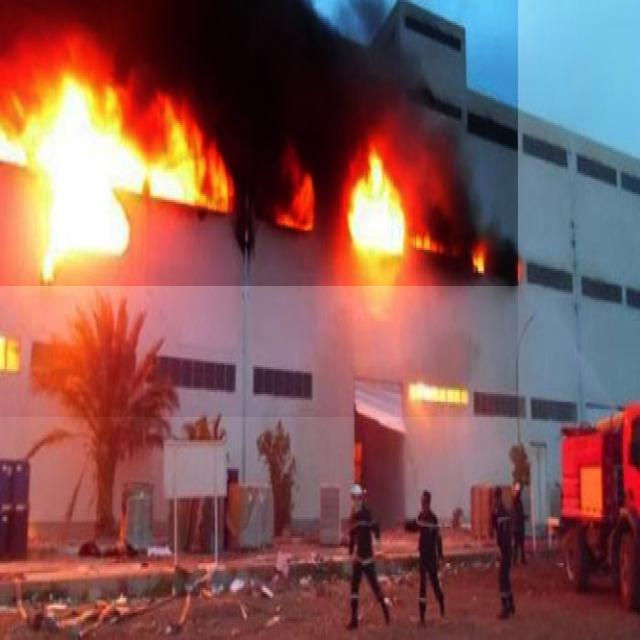Fire: (0, 81, 518, 417)
Smoke: (0, 0, 518, 286)
